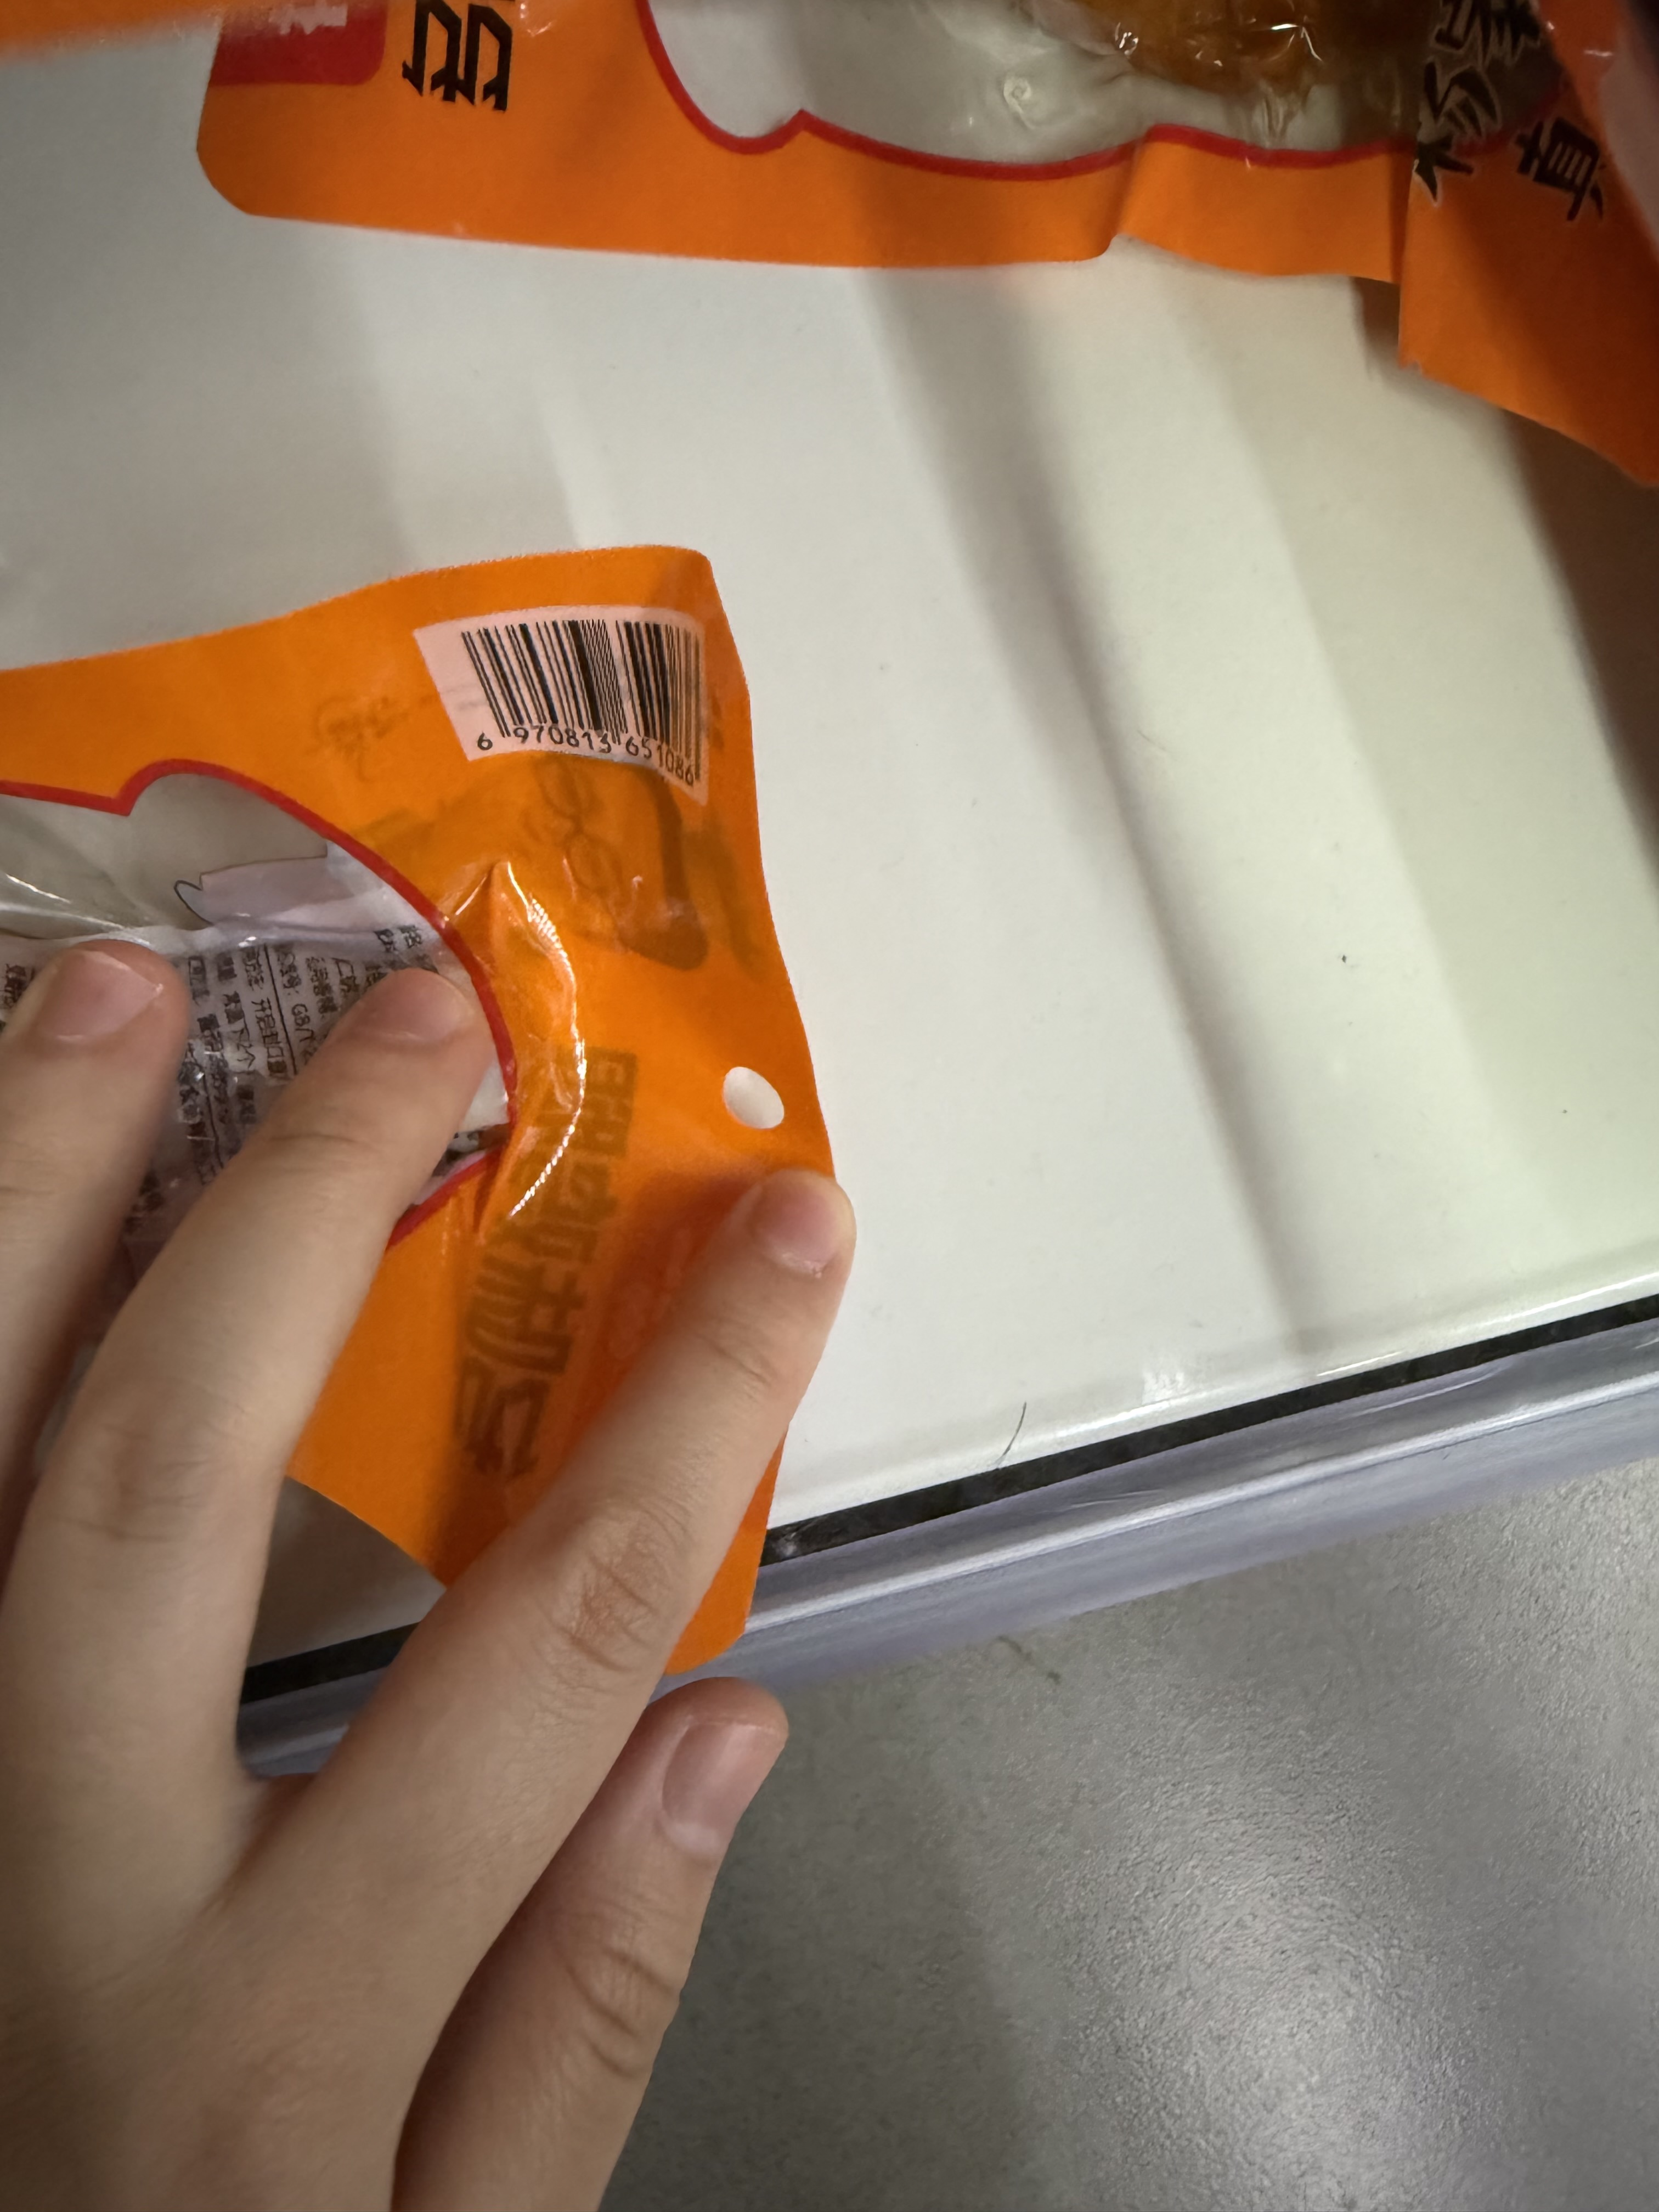bar: (450, 599, 716, 789)
